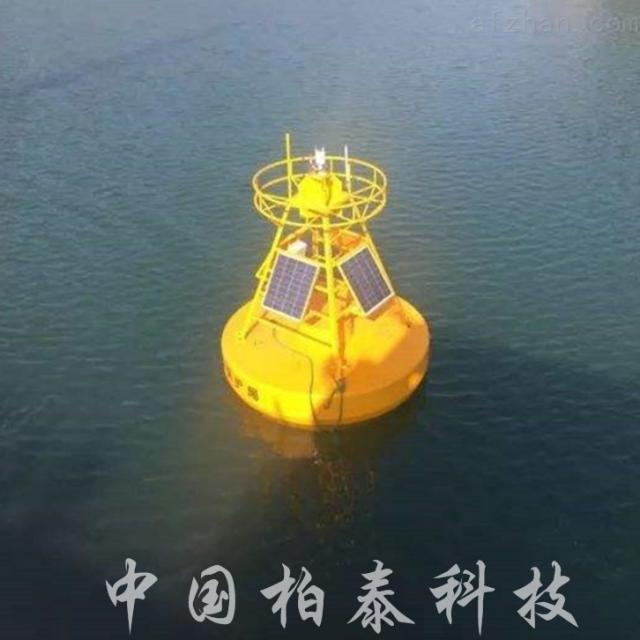buoy: (217, 133, 433, 431)
